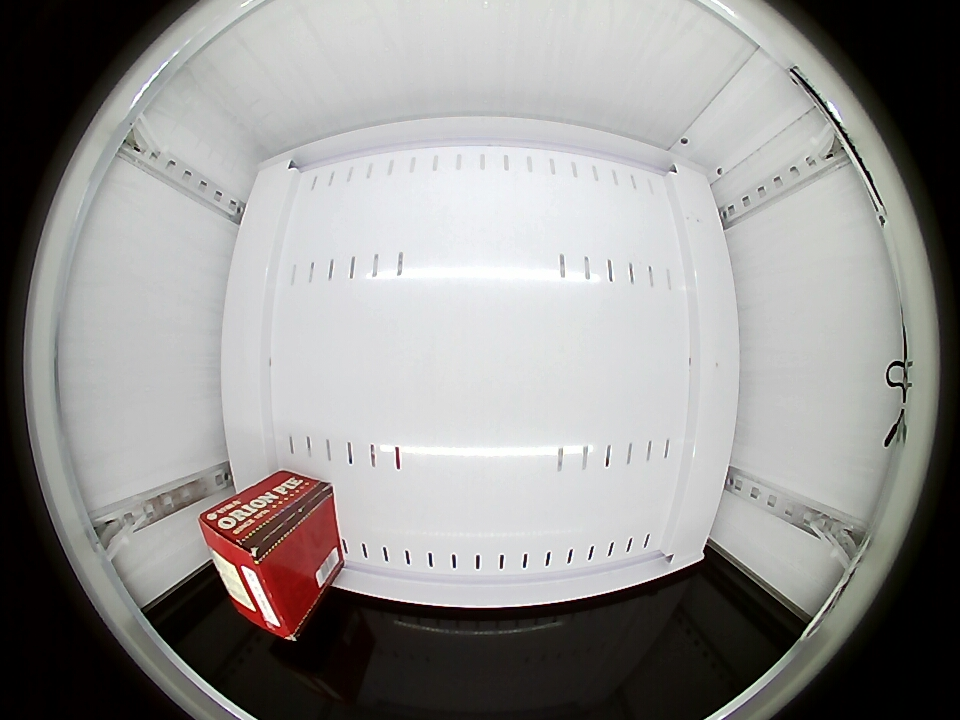haoliyou: (199, 500, 316, 639)
